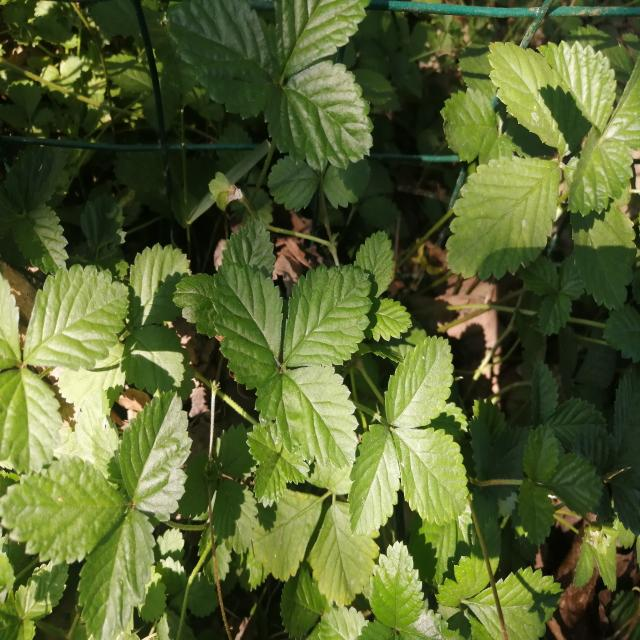Mock_strawberry: (178, 3, 400, 198), (8, 396, 212, 604), (207, 243, 373, 453), (340, 342, 480, 532)
